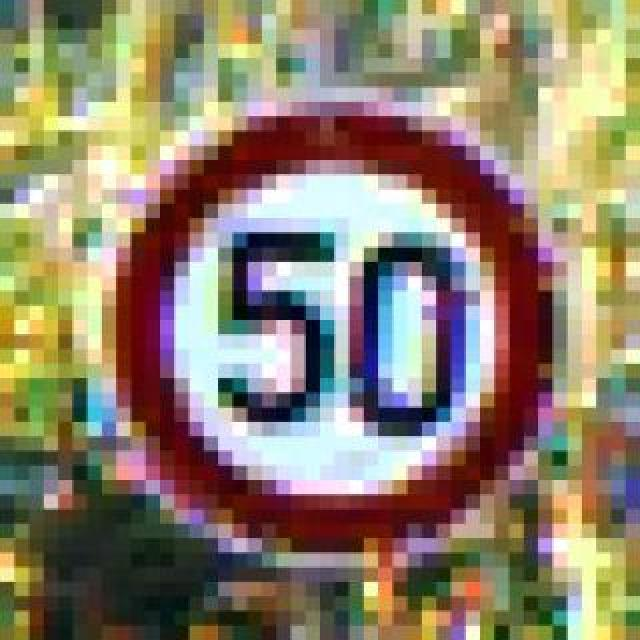50 kph: (74, 74, 554, 538)
